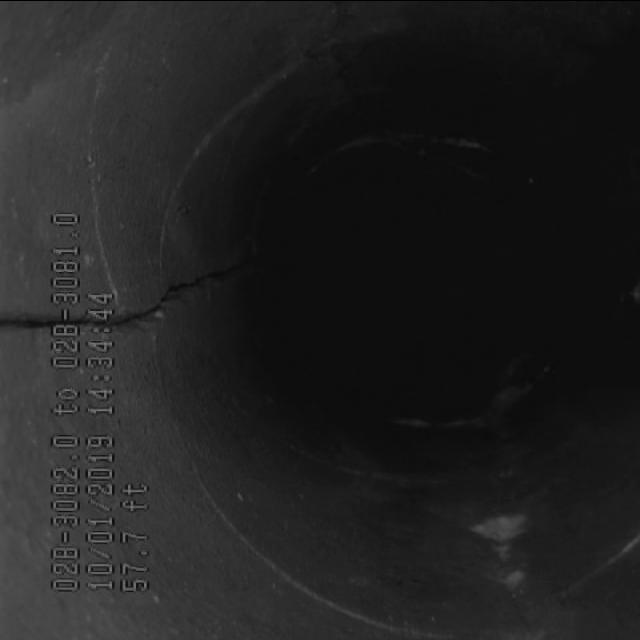Crack: (54, 61, 134, 282)
